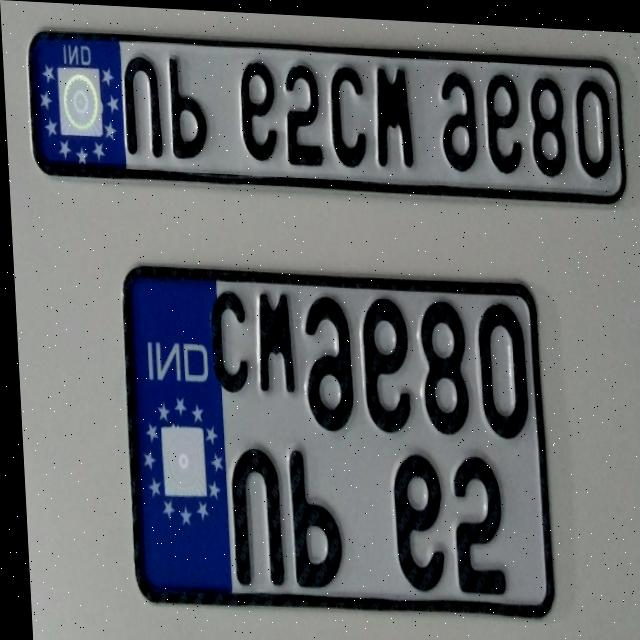plate: (110, 253, 554, 623), (22, 27, 628, 203)
